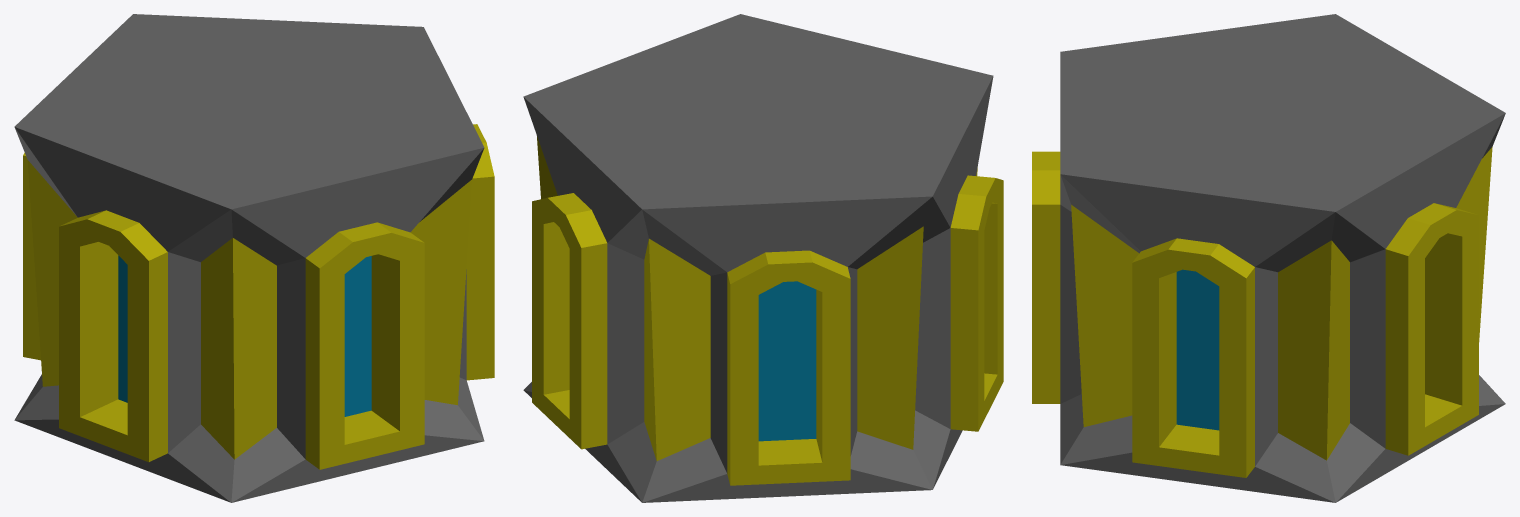
The model's file is towerblocMoney.fbx.
The picture shows the model from 3 angles, left to right: view 1: azimuth 30°, elevation 25°; view 2: azimuth 150°, elevation 25°; view 3: azimuth 270°, elevation 25°; orthographic projection.
Parts seen in each view (by area): view 1: Cylinder; view 2: Cylinder; view 3: Cylinder.
Boxes of the visible parts, x1,y1,x2,y2 form: Cylinder: (14,14,494,502); Cylinder: (523,14,1003,502); Cylinder: (1032,14,1505,502).
Size of the model in its own units: 166 by 114 by 168.
